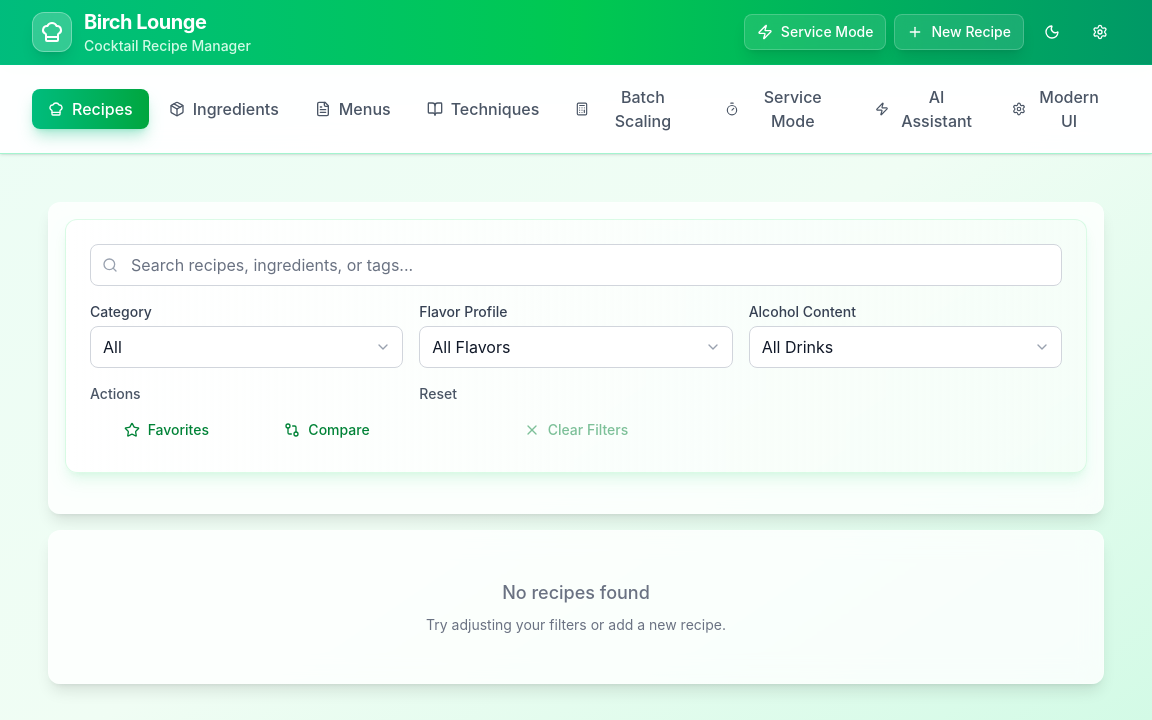
Test: MainApp UI interactions › toggles theme and service mode from the header controls
Click the button named "switch to dark mode": (1052,32) [1032,14,1072,50]
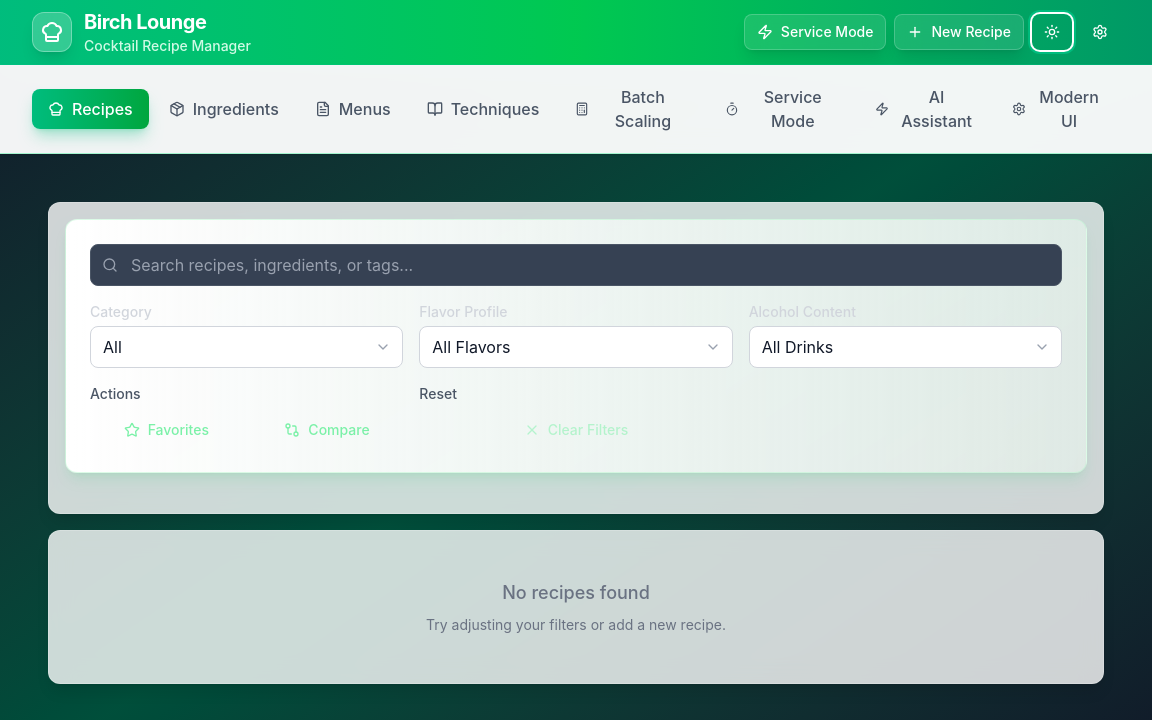
Expected: the button named "switch to light mode" is shown, [1032,14,1072,50]
Click the button "Service Mode" in the row of "Cocktail Recipe Manager": (815,32) [744,14,886,50]
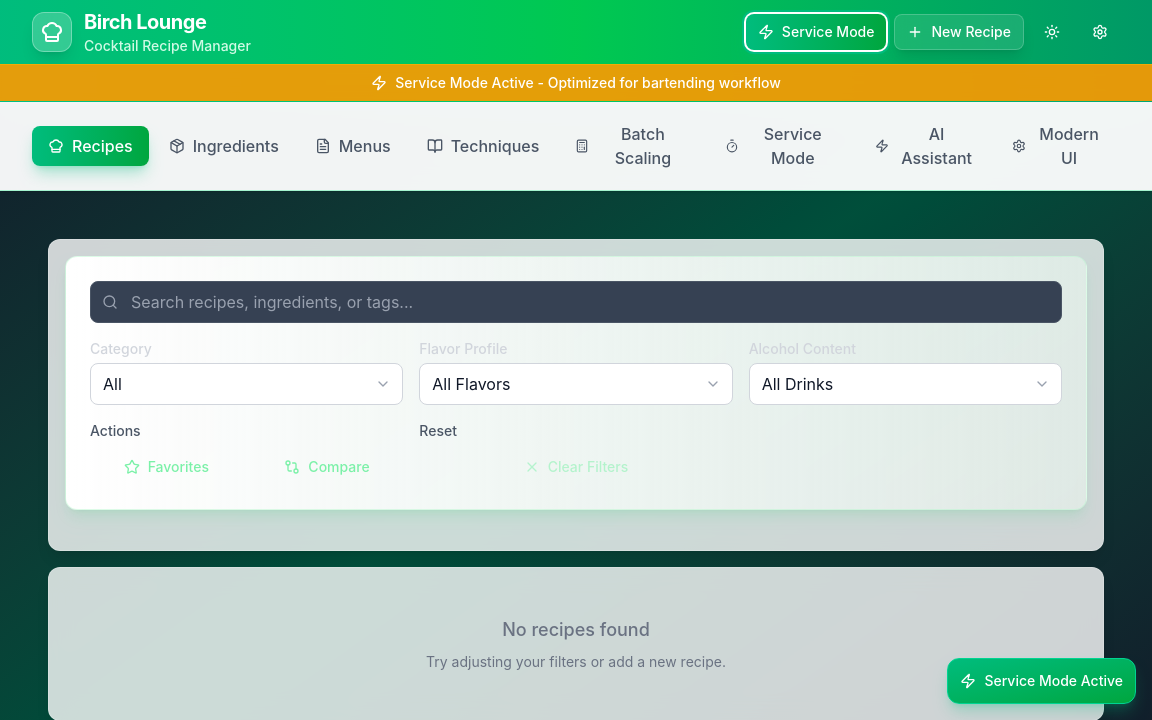
Expected: the text "Service Mode Active - Optimized for bartending workflow" is shown, [395,73,781,93]
Click the button "Service Mode" in the row of "Cocktail Recipe Manager": (816,32) [746,14,886,50]
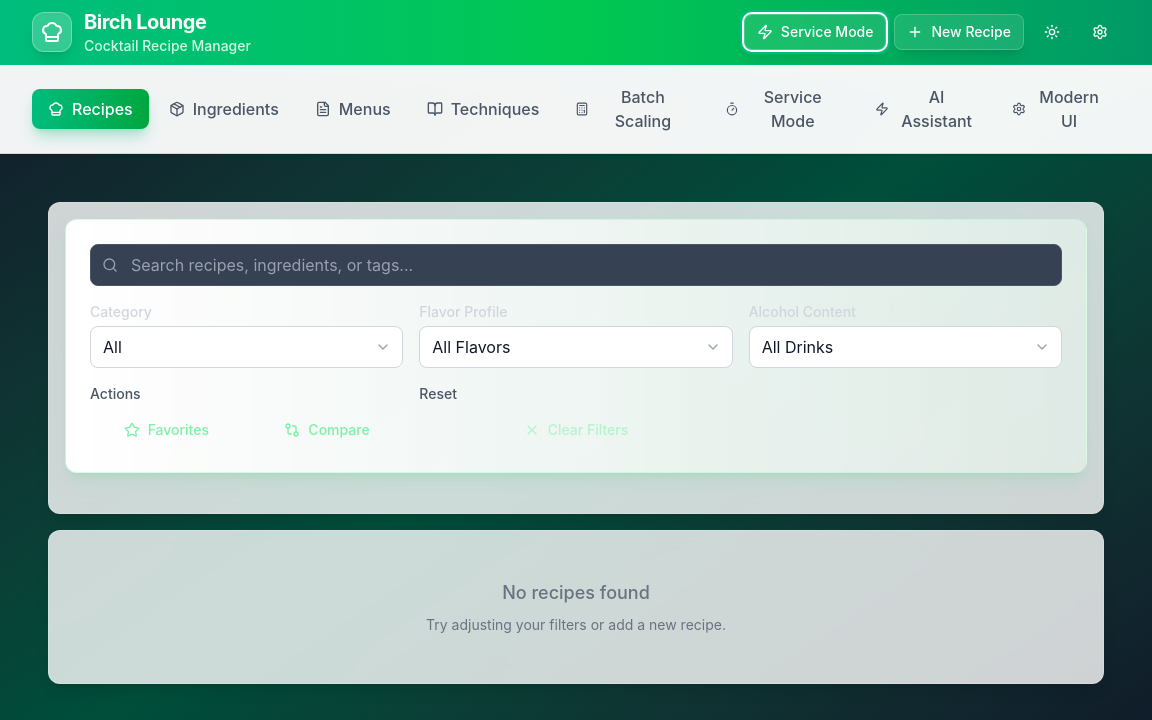
Expected: the text "Service Mode Active" is gone
